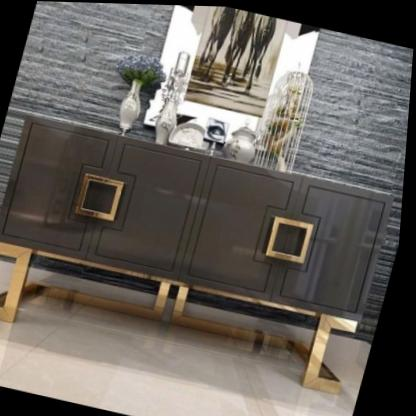Sideboard: (0, 116, 396, 393)
